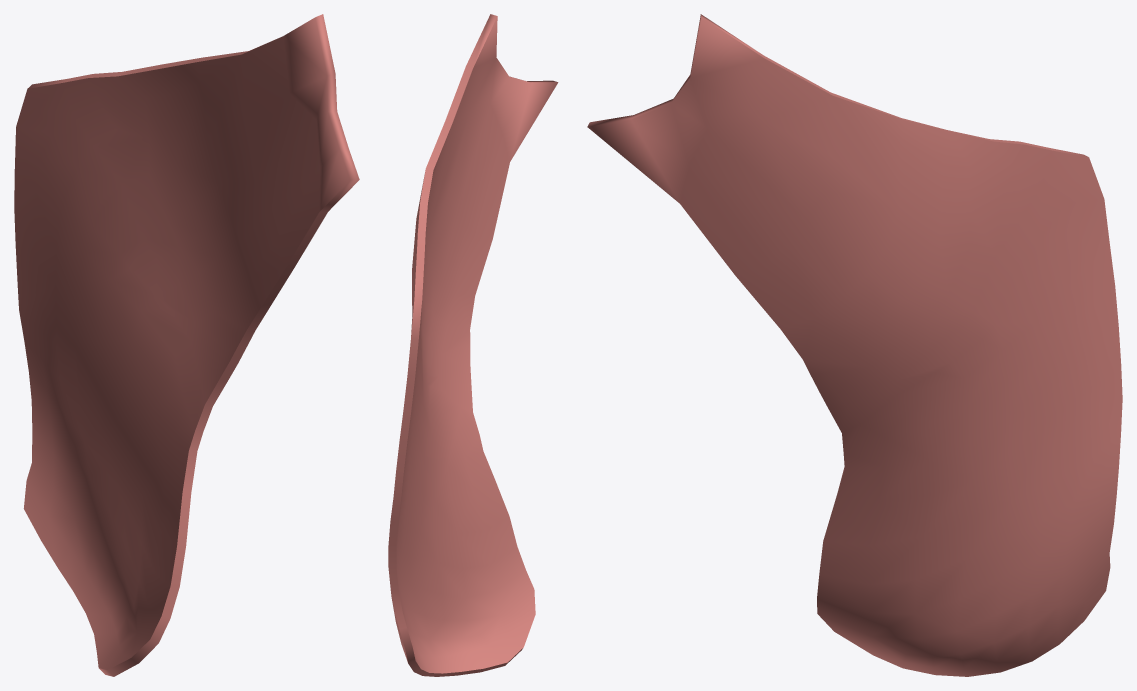
The picture shows the model from 3 angles, left to right: view 1: azimuth 30°, elevation 25°; view 2: azimuth 150°, elevation 25°; view 3: azimuth 270°, elevation 25°; orthographic projection. The views are drawn at different scales.
Parts seen in each view (by area): view 1: ZA_34aa2f8dc60b6413; view 2: ZA_34aa2f8dc60b6413; view 3: ZA_34aa2f8dc60b6413.
Part boxes in pixels (box(x1,y1,x2,y2)): ZA_34aa2f8dc60b6413: box(14, 14, 359, 676); ZA_34aa2f8dc60b6413: box(388, 14, 558, 676); ZA_34aa2f8dc60b6413: box(587, 14, 1122, 676).
Size of the model in its own units: 0.016 by 0.0795 by 0.0544.
